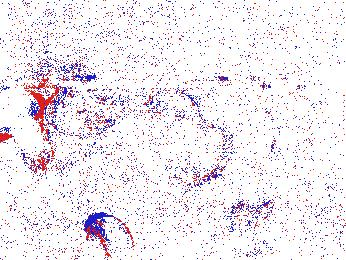flame jellyfish: (1, 84, 55, 173), (213, 200, 276, 260), (74, 212, 135, 260)
